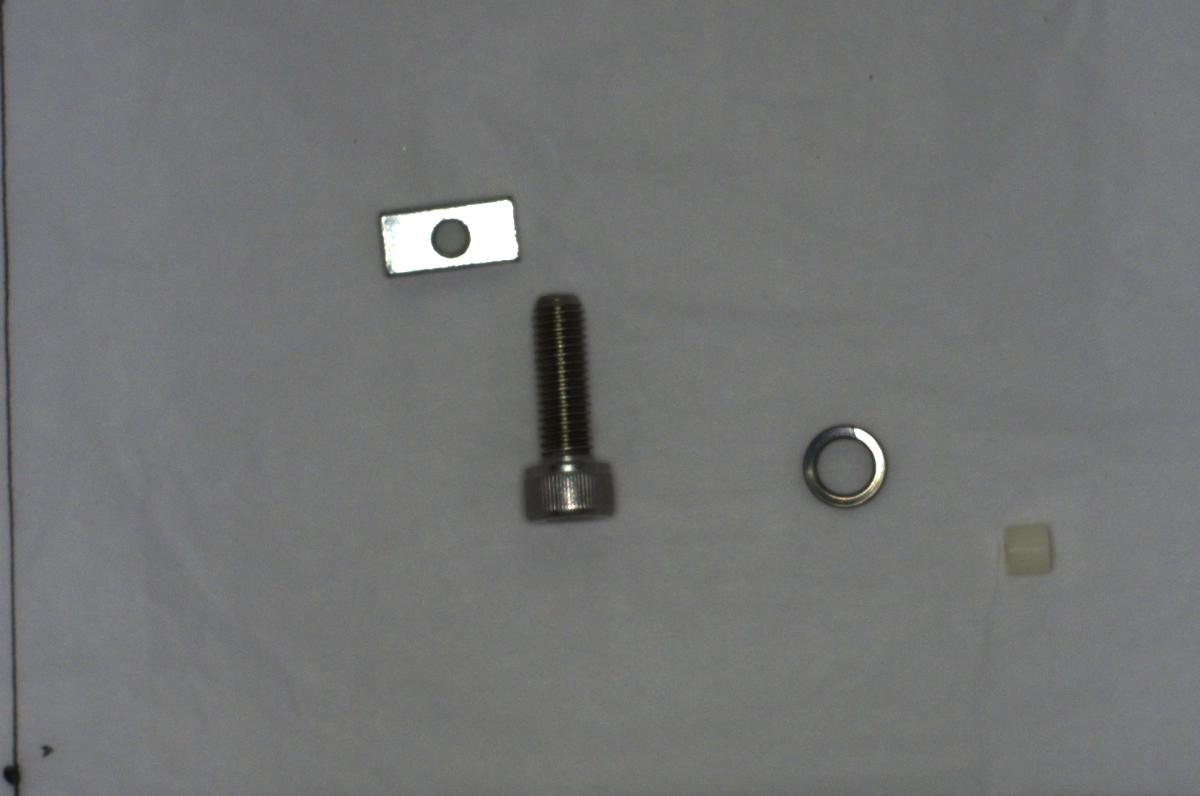Hexagon screw: (514, 283, 631, 528)
Plastic cushion pillar: (986, 514, 1062, 585)
Rectangular nut: (359, 185, 527, 280)
Spring washer: (791, 412, 892, 510)
